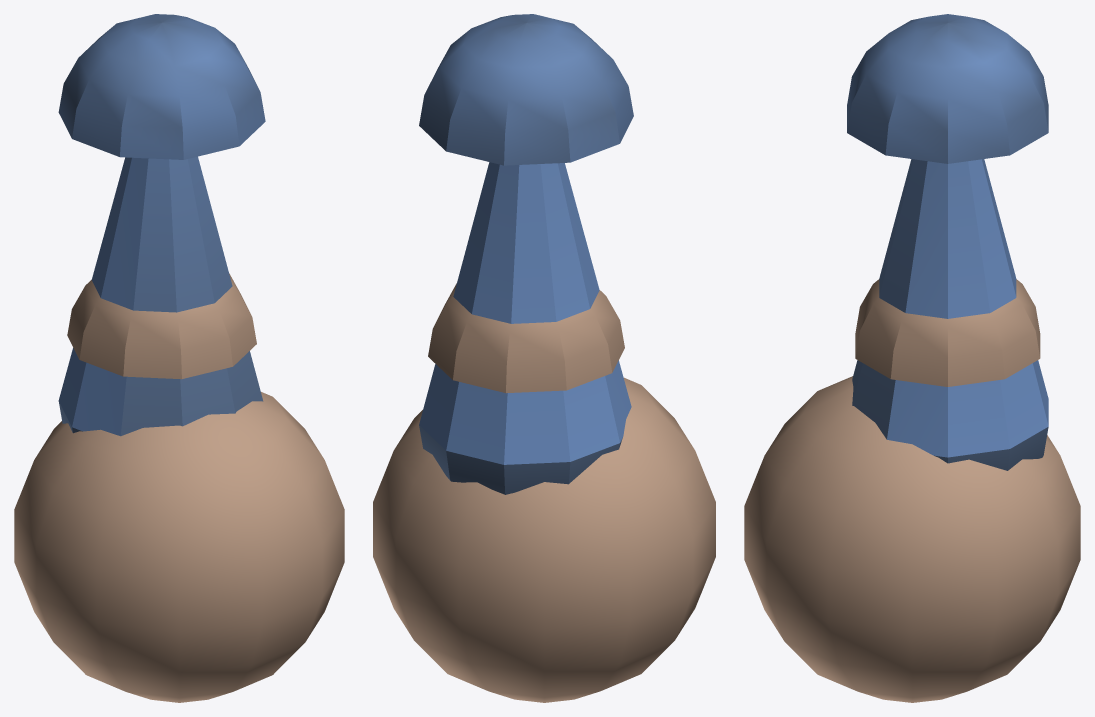
The model's file is boy-balloon-wand-armL.glb.
The picture shows the model from 3 angles, left to right: view 1: azimuth 30°, elevation 25°; view 2: azimuth 150°, elevation 25°; view 3: azimuth 270°, elevation 25°; orthographic projection. The views are drawn at different scales.
Parts seen in each view (by area): view 1: player_boy-balloon-wand:armL; view 2: player_boy-balloon-wand:armL; view 3: player_boy-balloon-wand:armL.
Part boxes in pixels (x1,y1,x2,y2): player_boy-balloon-wand:armL: [14, 14, 344, 702]; player_boy-balloon-wand:armL: [373, 14, 715, 702]; player_boy-balloon-wand:armL: [744, 14, 1080, 702].
Bounding box in the file's own units: 0.1142 × 0.249 × 0.1142.
